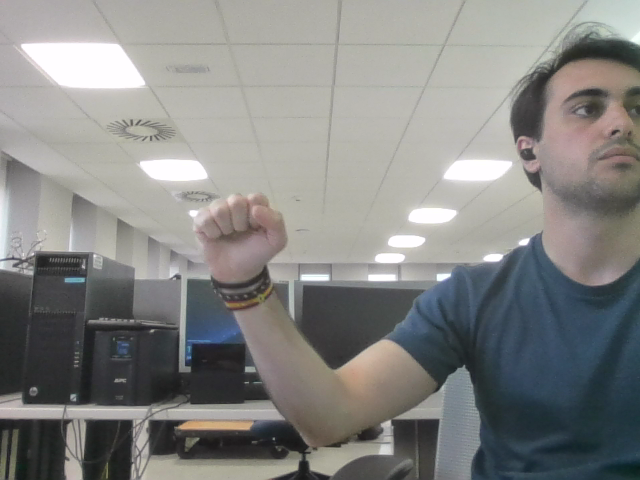Puño: (207, 200, 272, 261)
